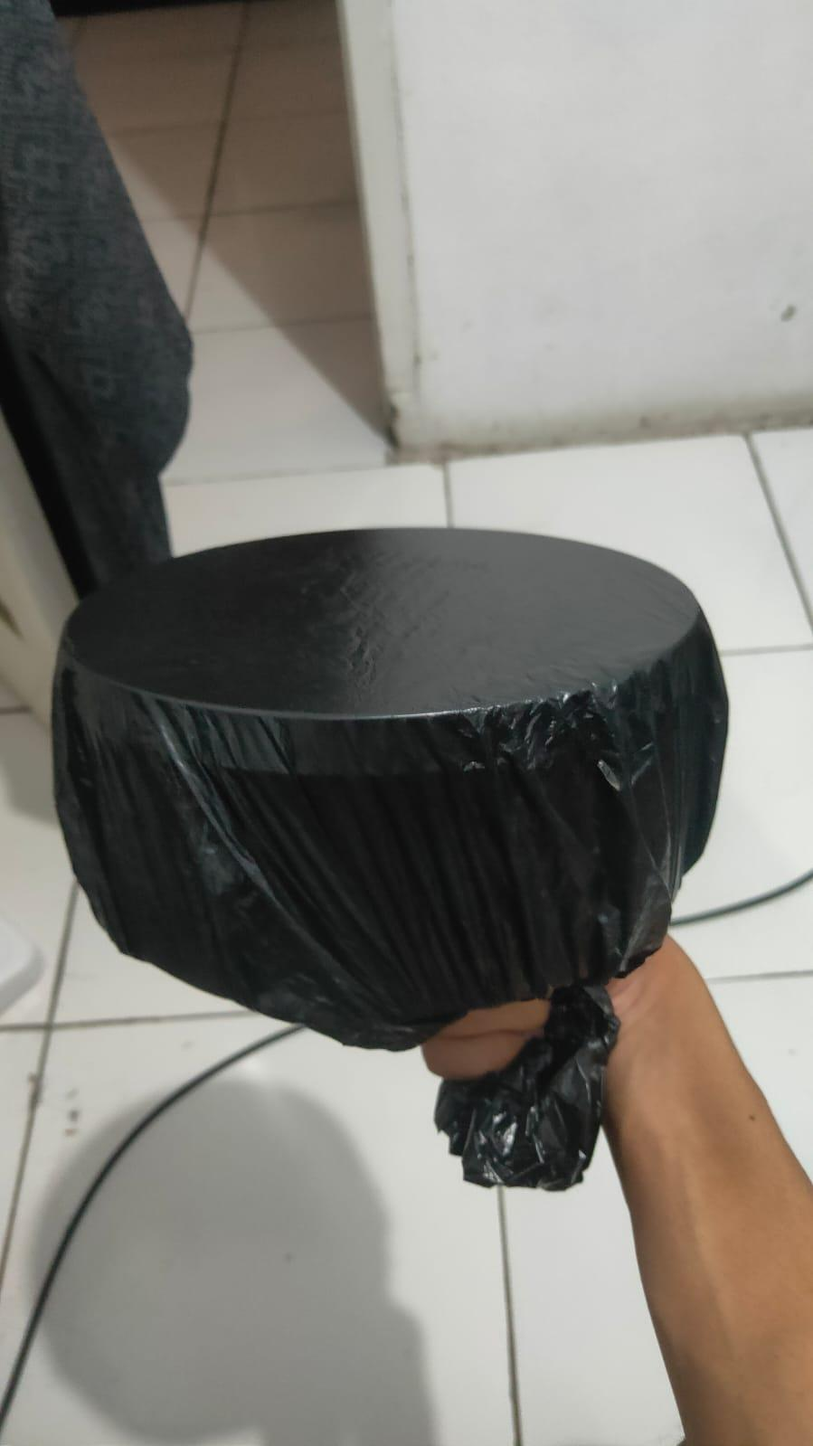undamaged: (37, 518, 741, 1066)
